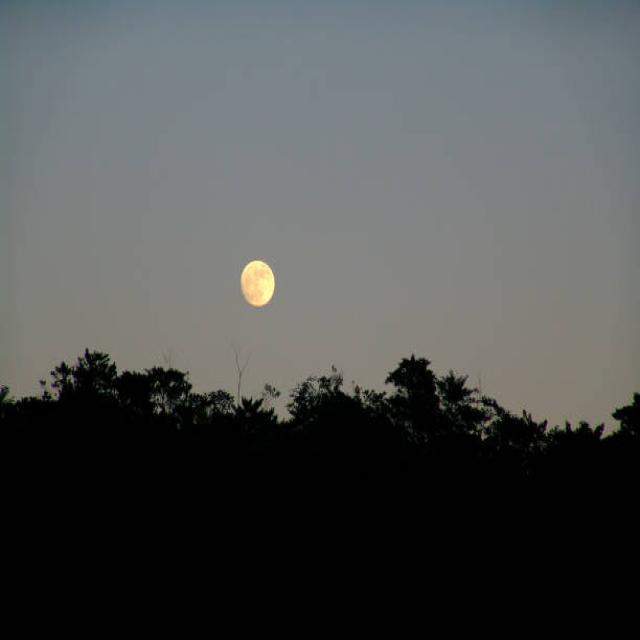moon: (236, 258, 278, 308)
